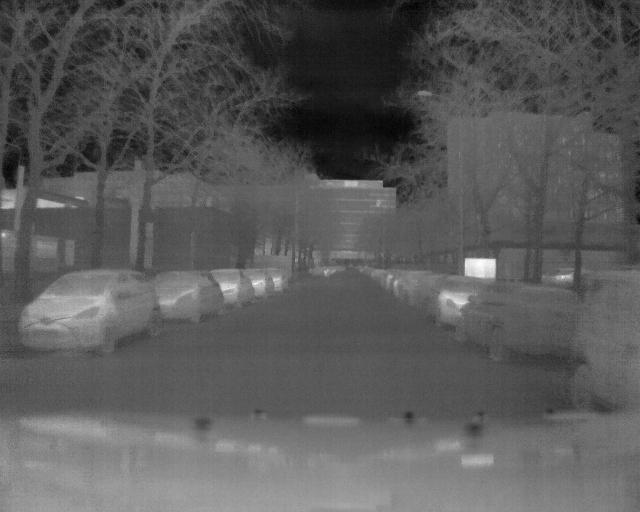car: (12, 269, 161, 355), (570, 276, 640, 406), (457, 287, 566, 357), (164, 270, 223, 322), (220, 264, 259, 308)
